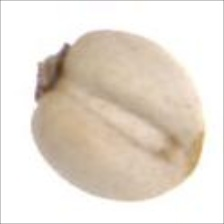L5: (62, 77, 186, 167), (31, 41, 74, 108), (175, 128, 206, 186)
L6: (29, 29, 207, 204)
